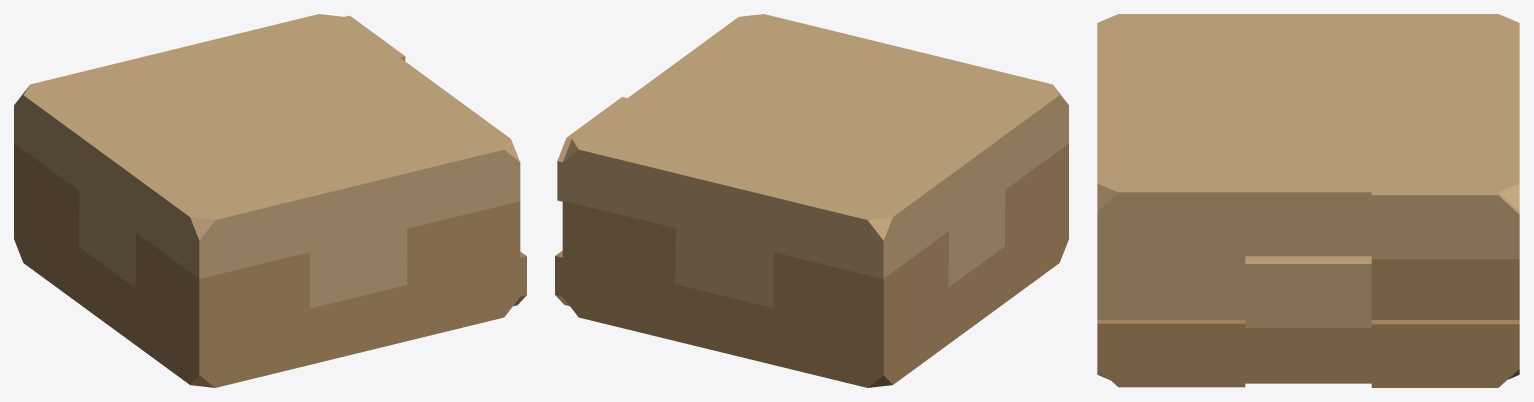
File: Platform_Temple_02.fbx
3 renders of one model, left to right at view 1: azimuth 30°, elevation 25°; view 2: azimuth 150°, elevation 25°; view 3: azimuth 270°, elevation 25°, orthographic. The views are drawn at different scales.
Visible parts, largest first — view 1: Temple_02; view 2: Temple_02; view 3: Temple_02.
Part boxes in pixels (bbox=[...]): Temple_02: bbox=[14, 14, 526, 387]; Temple_02: bbox=[555, 14, 1068, 387]; Temple_02: bbox=[1097, 14, 1519, 387].
Size of the model in its own units: 82.21 by 39.37 by 78.74.
1 material, 1 textured.
